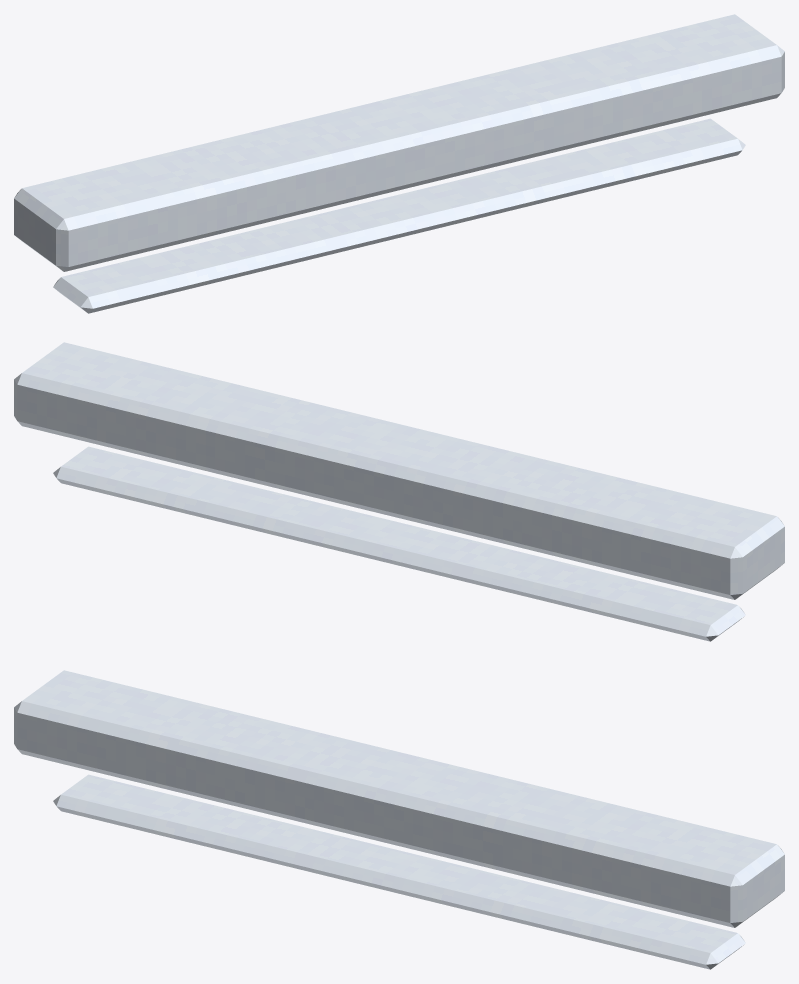
File: TubeLightFixture.glb
3 renders of one model, top to bottom at view 1: azimuth 30°, elevation 25°; view 2: azimuth 150°, elevation 25°; view 3: azimuth 330°, elevation 25°, orthographic.
Visible parts, largest first — view 1: TubeLightFixture; view 2: TubeLightFixture; view 3: TubeLightFixture.
Part boxes in pixels (x1,y1,x2,y2): TubeLightFixture: (14,14,784,313); TubeLightFixture: (14,342,784,641); TubeLightFixture: (14,670,784,969).
Size of the model in its own units: 1.15 by 0.1625 by 0.14.
Materials: 1 (1 with a texture image).
